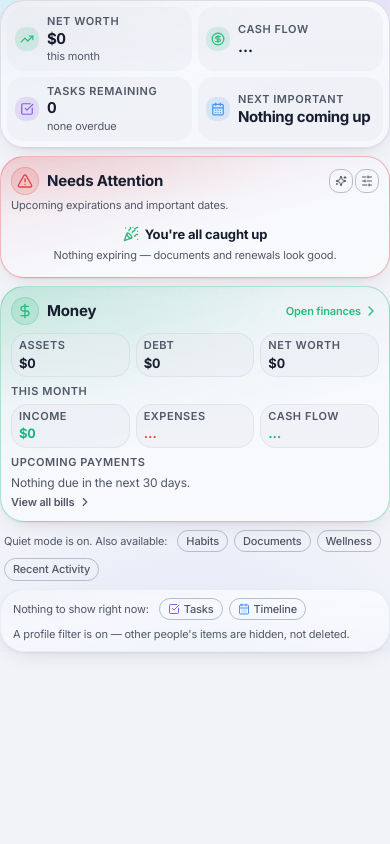
Test: F-44 Generate AI advice › says 'nothing to suggest' for an empty answer instead of staying silent
Expected: the element with test id "exec-card-attention" is shown, [0,156,389,278]
Click the button with test id "exec-recommendations-generate": (341, 180) [329,168,353,192]
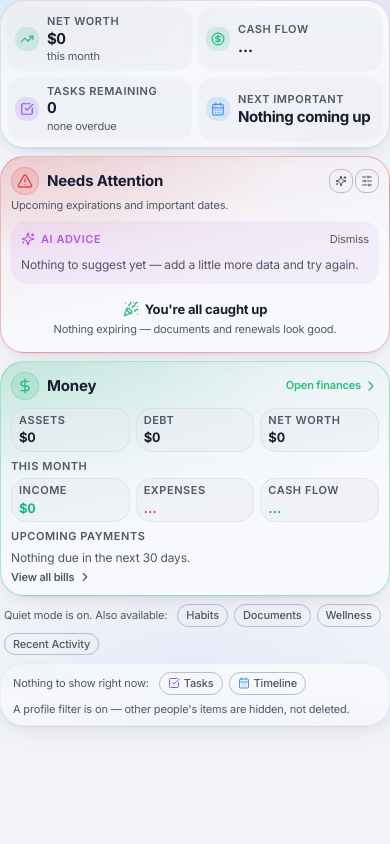
Now the text with test id "exec-recommendations-empty" is shown, box [21,256,369,274]
